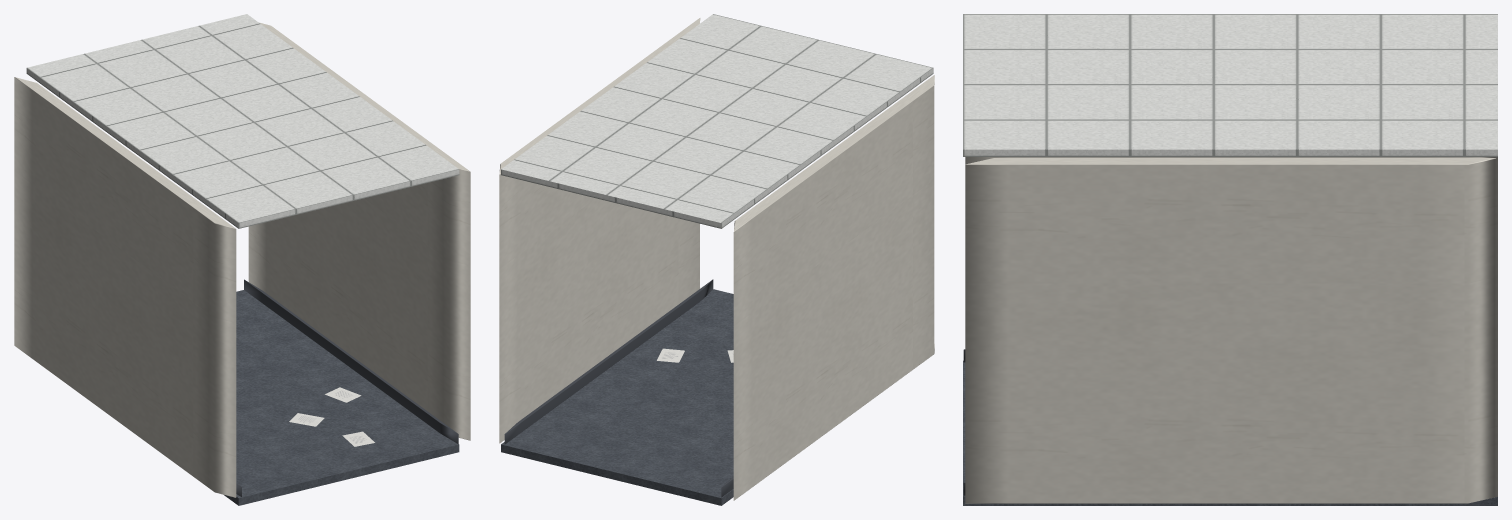
File: hallway_straight.glb
3 views of the same model, side by side, from view 1: azimuth 30°, elevation 25°; view 2: azimuth 150°, elevation 25°; view 3: azimuth 270°, elevation 25° (orthographic). The views are drawn at different scales.
Parts seen in each view (by area): view 1: Hallway_Straight; view 2: Hallway_Straight; view 3: Hallway_Straight.
Boxes of the visible parts, bbox=[...] form: Hallway_Straight: bbox=[14, 14, 470, 505]; Hallway_Straight: bbox=[499, 14, 934, 505]; Hallway_Straight: bbox=[963, 14, 1497, 505].
Size of the model in its own units: 2.67 by 2.94 by 4.
Materials: 7 (5 with a texture image).
